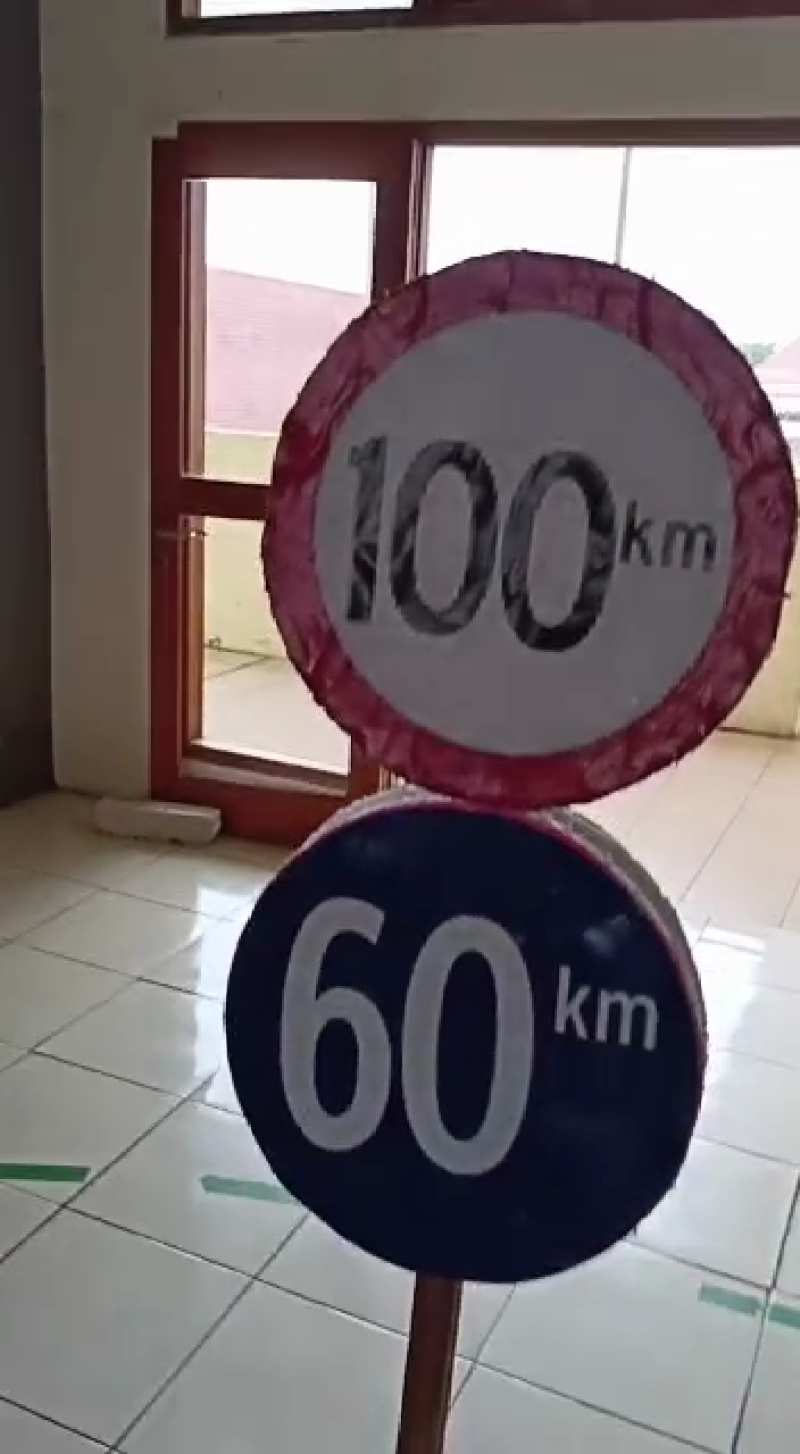batas maksimal 100kmperjam minimal 60kmperjam: (214, 242, 800, 1303)
